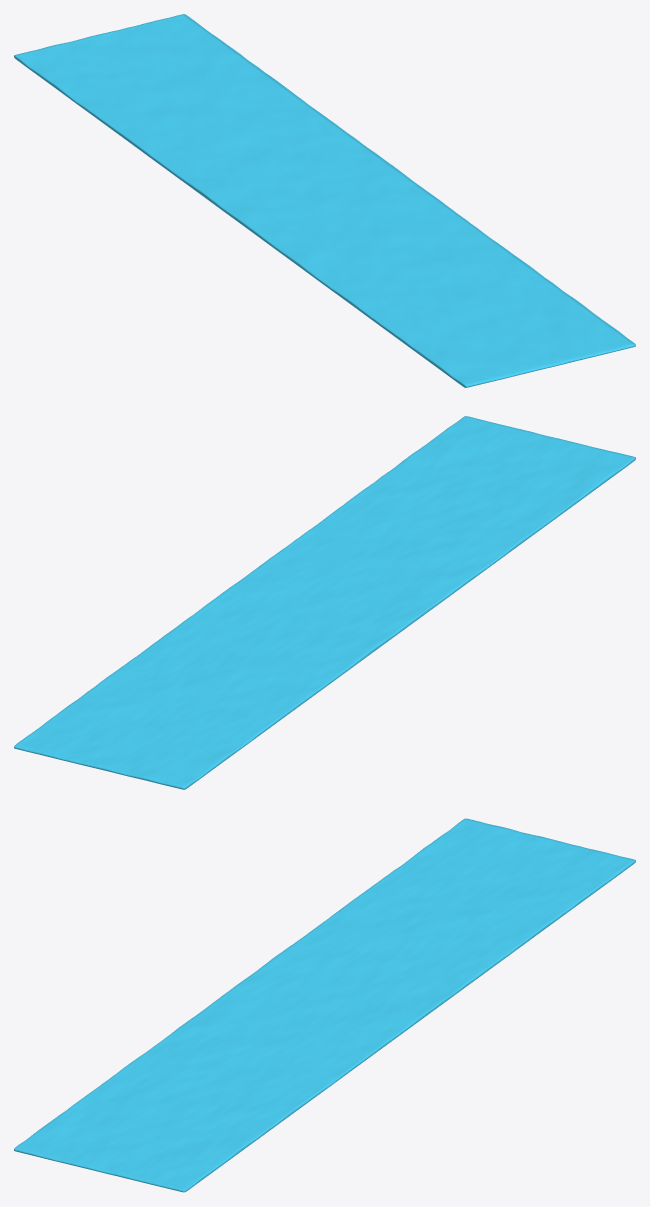
File: beach.glb
3 renders of one model, top to bottom at view 1: azimuth 30°, elevation 25°; view 2: azimuth 150°, elevation 25°; view 3: azimuth 330°, elevation 25°, orthographic.
Visible parts, largest first — view 1: Plane; view 2: Plane; view 3: Plane.
Boxes of the visible parts, box(x1,y1,x2,y2) form: Plane: box(14, 14, 635, 387); Plane: box(14, 416, 635, 789); Plane: box(14, 818, 635, 1192).
Bounding box in the file's own units: 26.97 × 0.6305 × 123.
